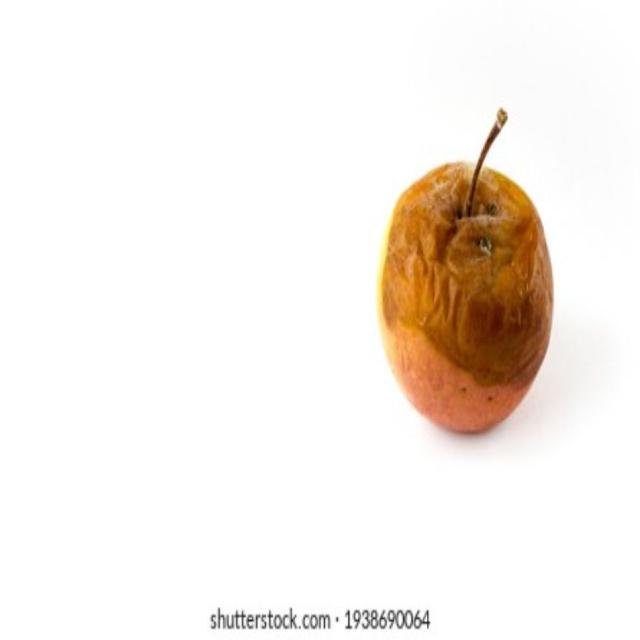Rotten Apple: (385, 131, 563, 480)
